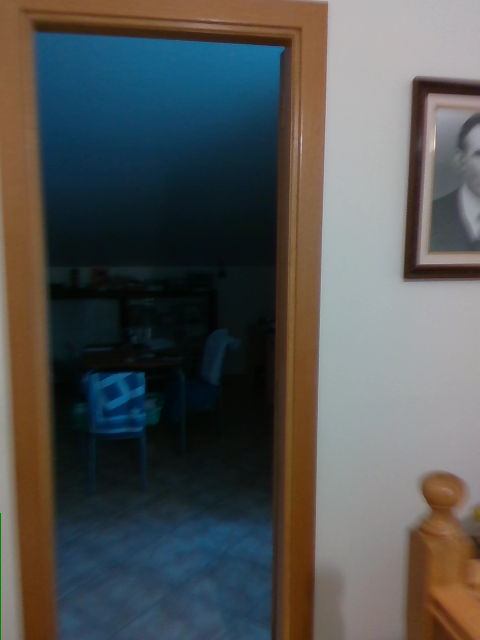open: (0, 0, 327, 639)
